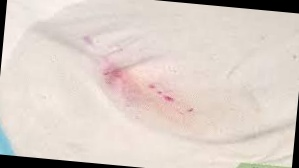lipstick: (144, 82, 193, 119), (109, 73, 154, 113), (99, 60, 127, 86), (80, 32, 96, 49)
